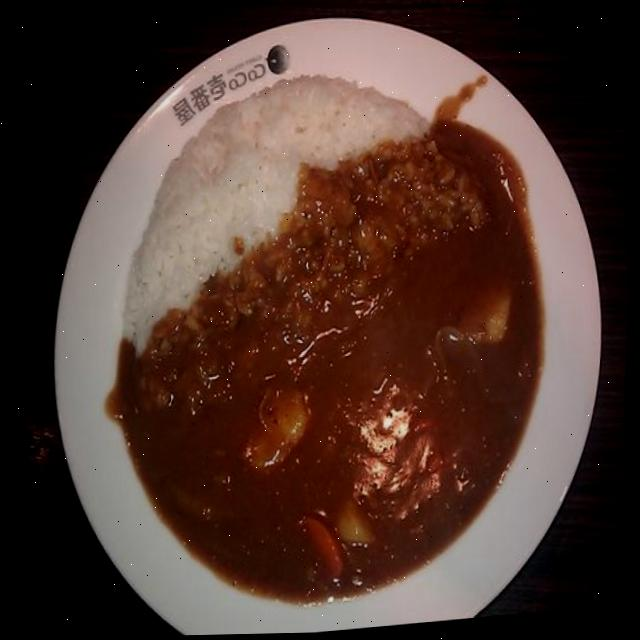牛肉菜式: (26, 0, 629, 639)
